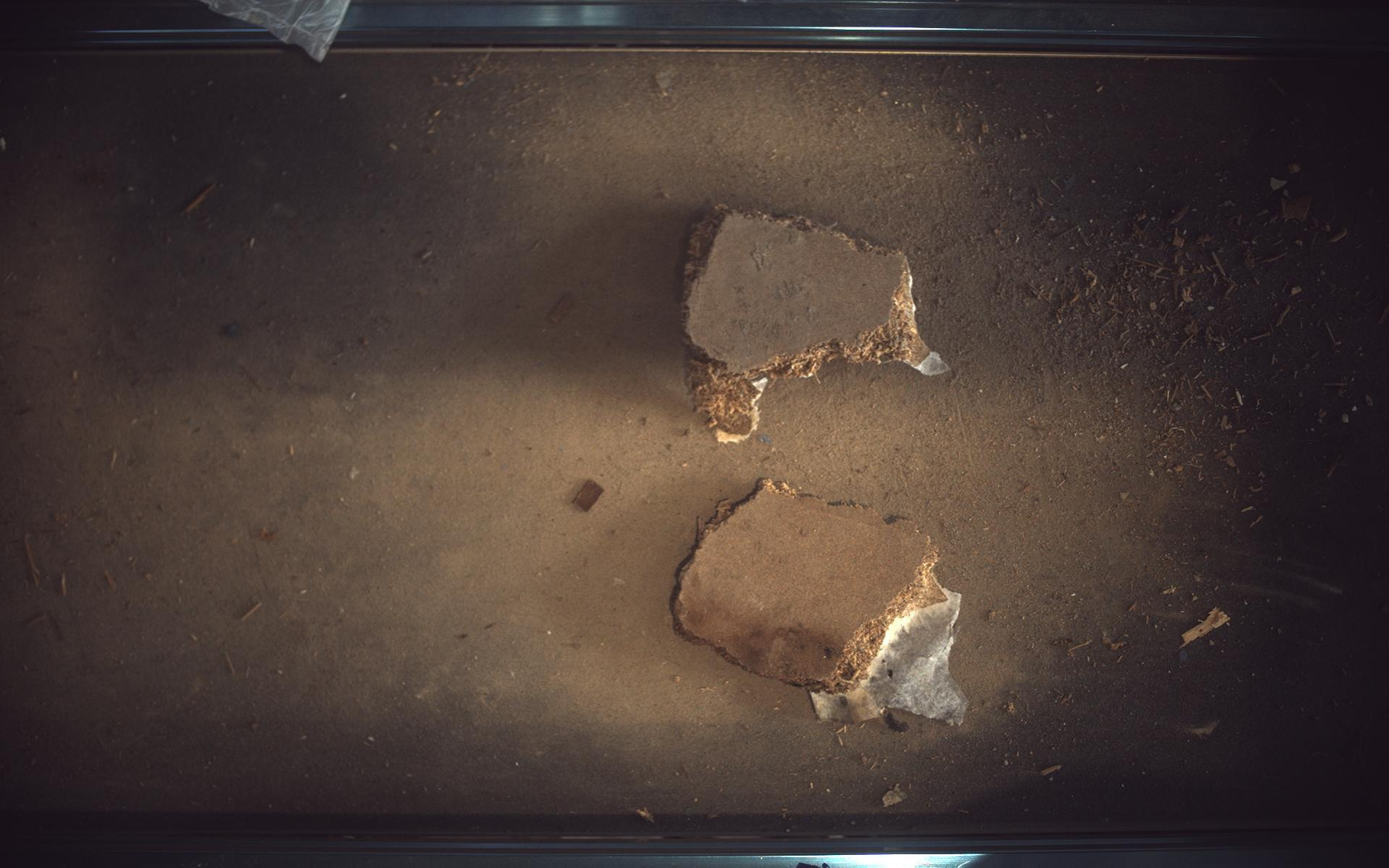wood: (674, 480, 969, 726), (685, 205, 950, 443)
